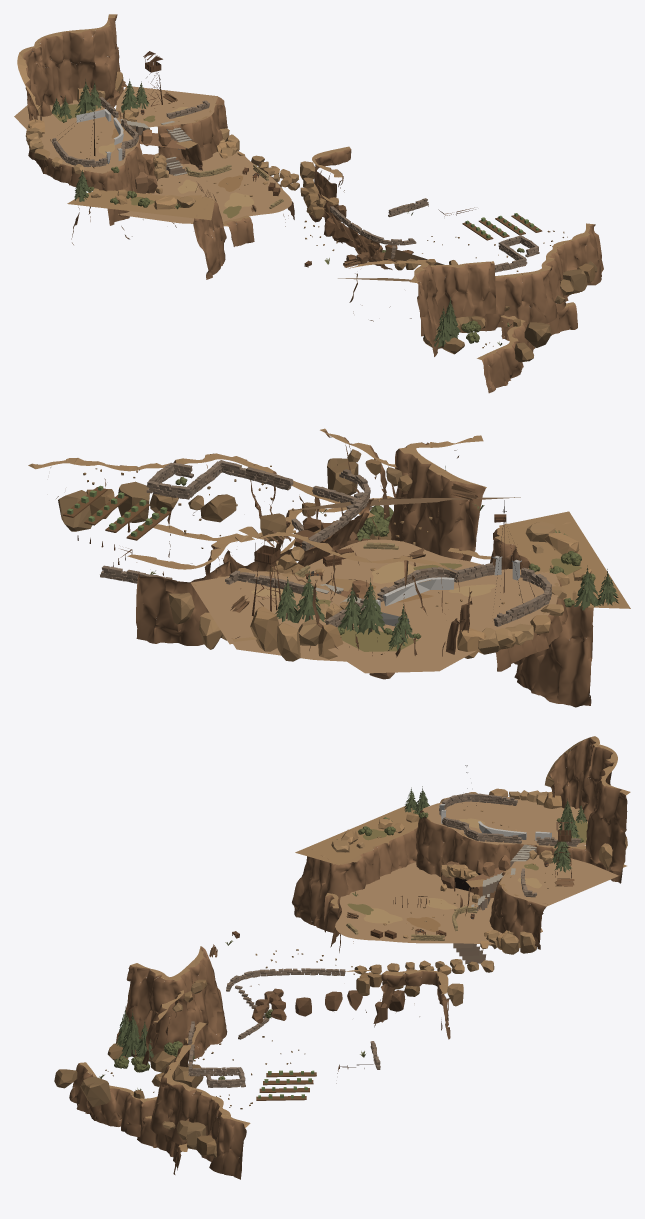
The model's file is ground.glb.
3 views of the same model, one above another, from view 1: azimuth 30°, elevation 25°; view 2: azimuth 150°, elevation 25°; view 3: azimuth 270°, elevation 25° (orthographic). The views are drawn at different scales.
Visible parts, largest first — view 1: ground; view 2: ground; view 3: ground.
Part boxes in pixels (x1,y1,x2,y2): ground: [14, 14, 603, 393]; ground: [28, 428, 630, 707]; ground: [54, 736, 630, 1179].
Bounding box in the file's own units: 3594 × 1627 × 3703.
